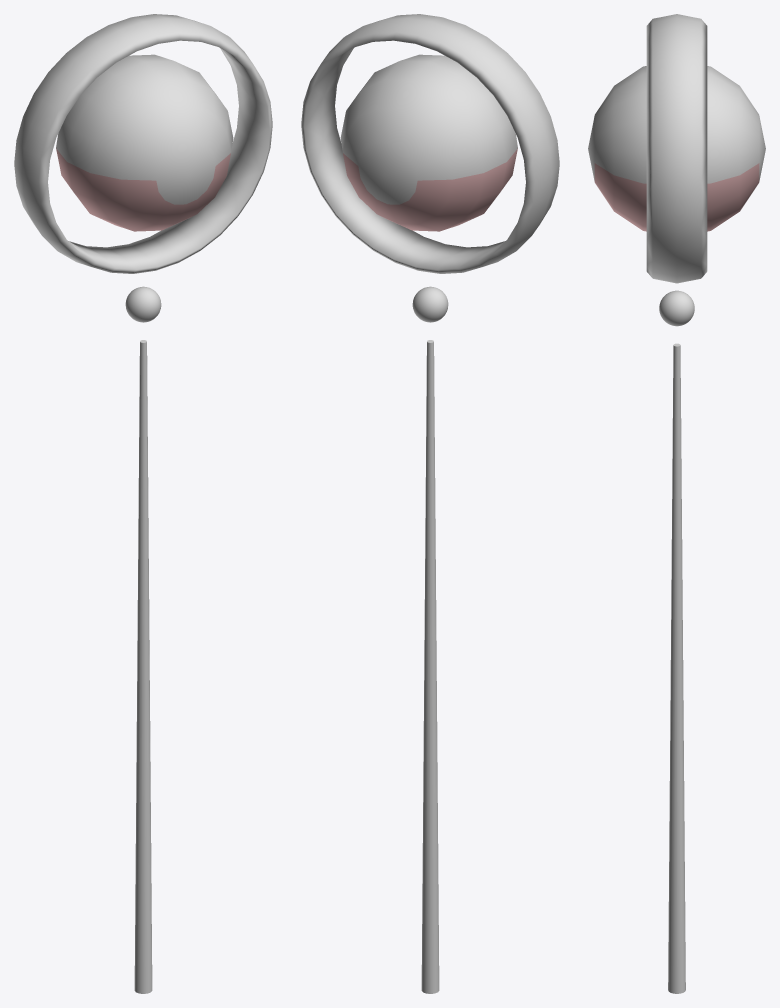
Rendered from balloon2.fbx.
The picture shows the model from 3 angles, left to right: view 1: azimuth 30°, elevation 25°; view 2: azimuth 150°, elevation 25°; view 3: azimuth 270°, elevation 25°; orthographic projection.
Visible parts, largest first — view 1: Sphere006; view 2: Sphere006; view 3: Sphere006.
Boxes of the visible parts, x1,y1,x2,y2 form: Sphere006: (14, 14, 272, 993); Sphere006: (301, 14, 559, 993); Sphere006: (588, 14, 765, 993).
Size of the model in its own units: 110 by 419 by 70.11.
